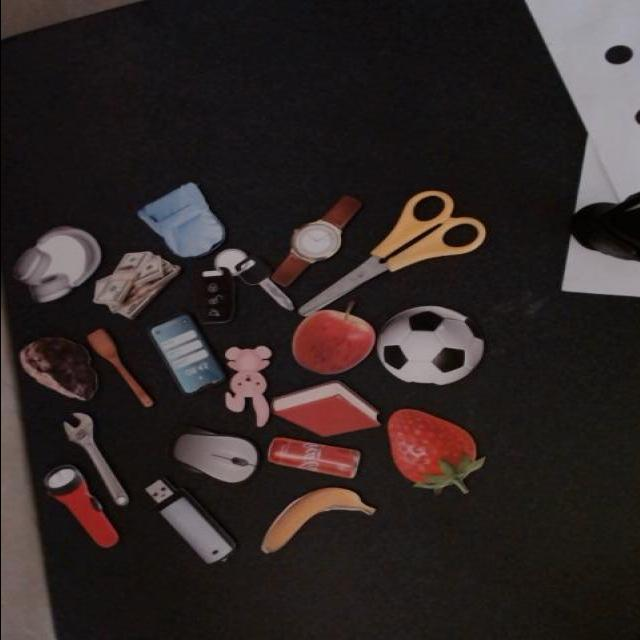Other Objects: (296, 190, 485, 316), (133, 472, 242, 567), (178, 241, 292, 326), (132, 178, 243, 265), (31, 460, 137, 551), (377, 307, 482, 385), (271, 195, 360, 286), (261, 487, 374, 554), (11, 226, 100, 303), (145, 312, 224, 394), (289, 299, 375, 374), (82, 325, 156, 412), (92, 251, 179, 319), (16, 335, 97, 401), (173, 432, 257, 482), (221, 344, 271, 427), (265, 436, 360, 479)
